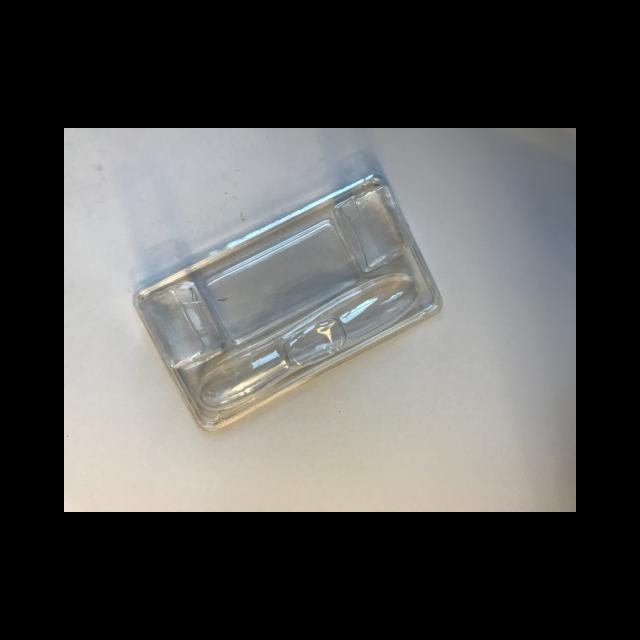plastic: (132, 172, 441, 431)
